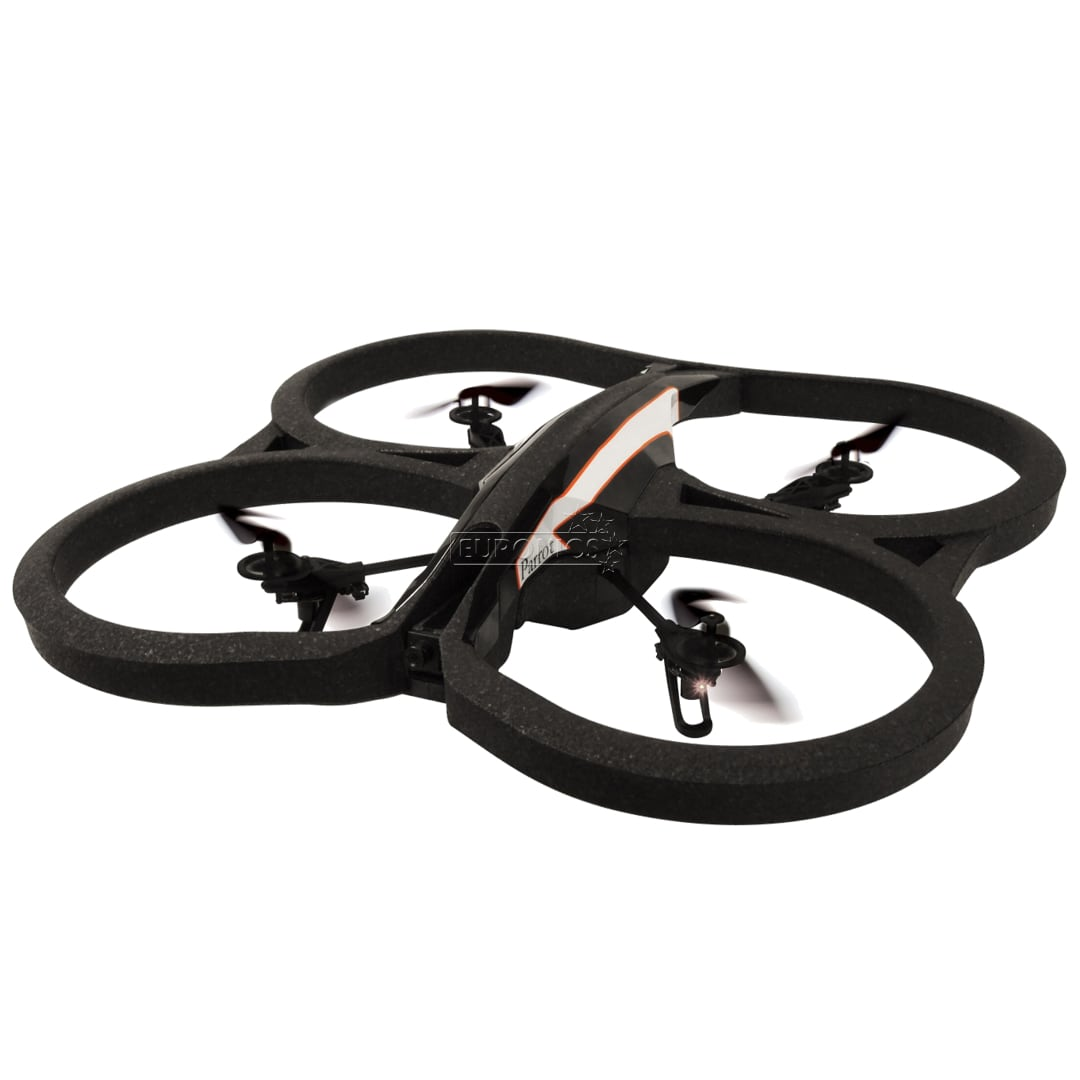drone: (14, 327, 1068, 831)
